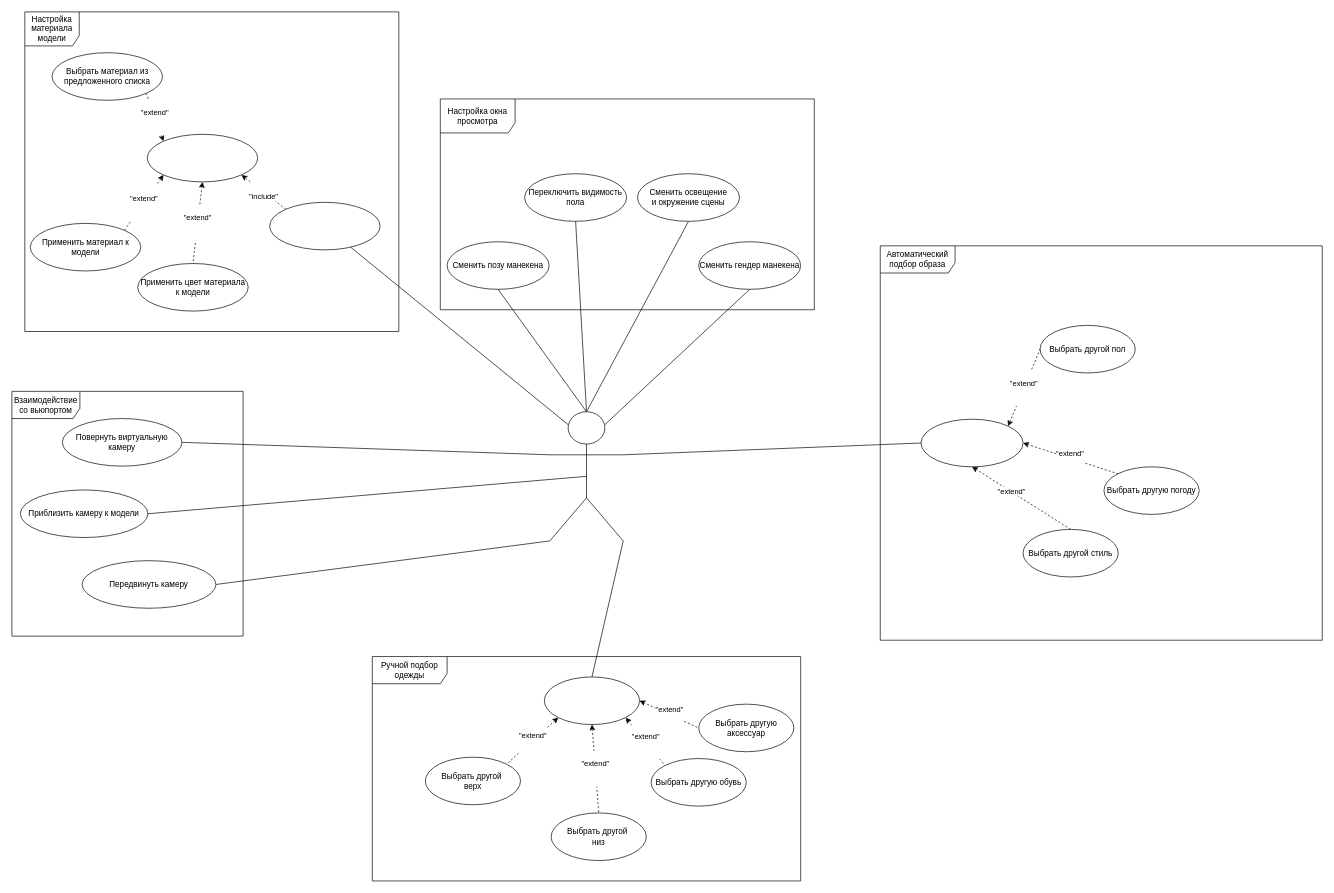
Some shapes in this 1334 by 893 pixel diagram are drawn without their labels. The centre of each missing label's shape, as x and y in pixels:
"Выбрать модель в окне вьюпорта" goes at point (324, 226).
"Осмотреть модель в окне предпросмотра" goes at point (202, 158).
"Подобрать образ по указанным параметрам" goes at point (971, 443).
"Пользователь" goes at point (586, 476).
"Собрать образ из выбранной одежды" goes at point (592, 700).
